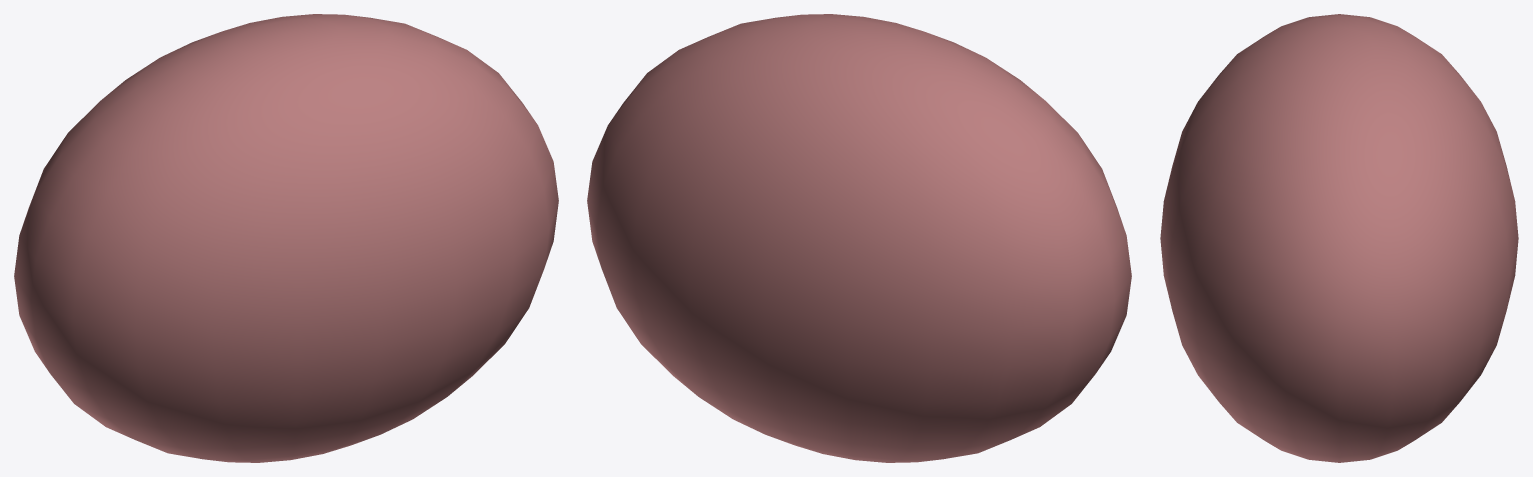
The model's file is eye.glb.
3 renders of one model, left to right at view 1: azimuth 30°, elevation 25°; view 2: azimuth 150°, elevation 25°; view 3: azimuth 270°, elevation 25°, orthographic. The views are drawn at different scales.
Visible parts, largest first — view 1: dev-marker-eyes; view 2: dev-marker-eyes; view 3: dev-marker-eyes.
Boxes of the visible parts, box(x1,y1,x2,y2) form: dev-marker-eyes: box(14, 14, 558, 462); dev-marker-eyes: box(587, 14, 1131, 462); dev-marker-eyes: box(1160, 14, 1518, 462).
Bounding box in the file's own units: 0.17 × 0.13 × 0.11.
